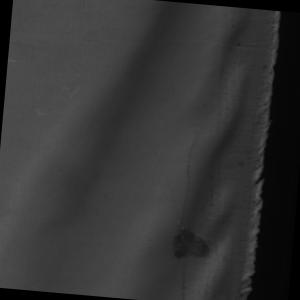Damage: (225, 9, 295, 300)
Stain: (166, 226, 217, 267)
Wrinkle: (8, 1, 201, 254)
